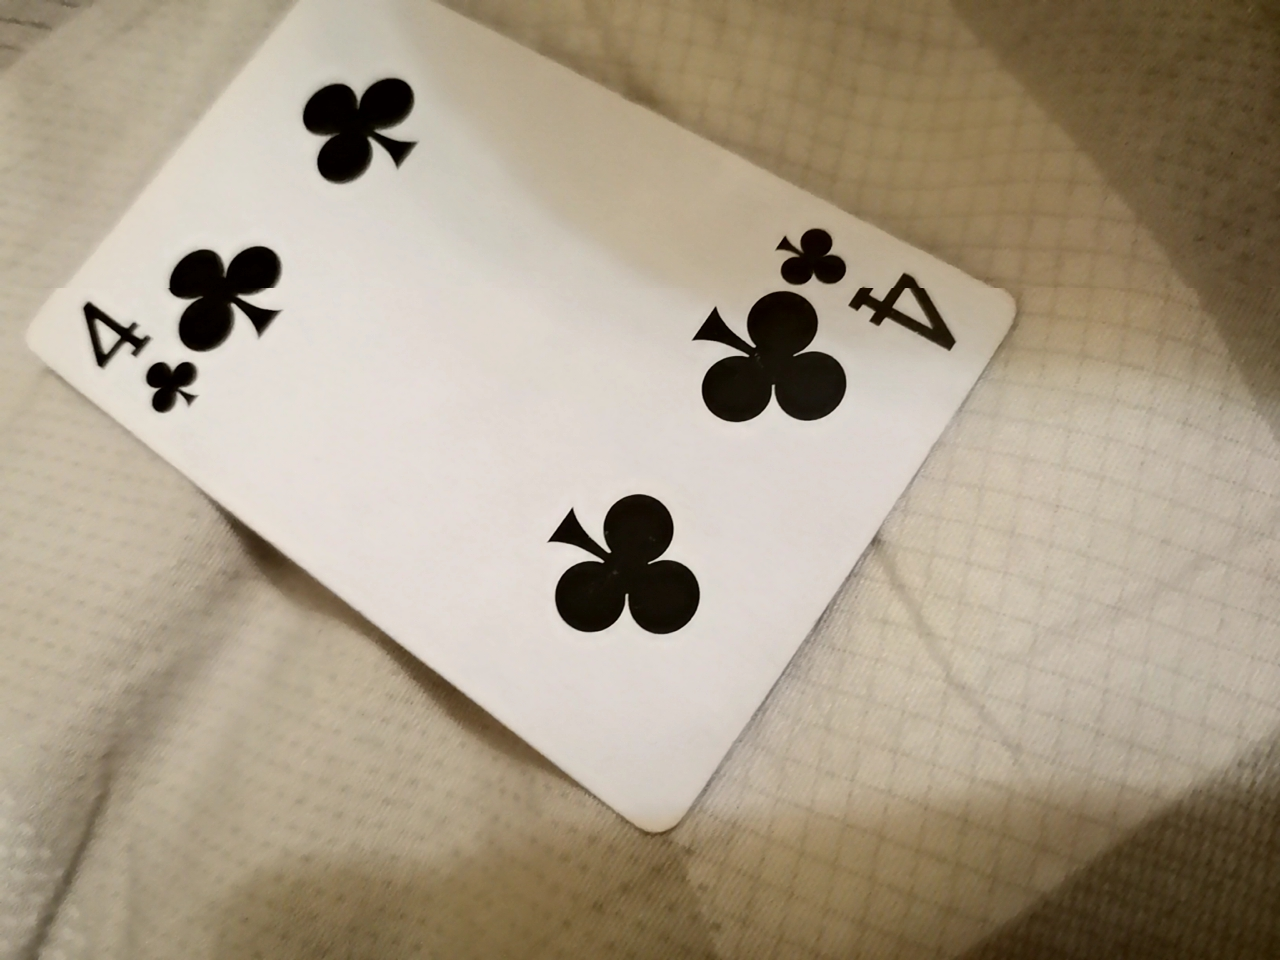mh 4: (32, 11, 1041, 855)
